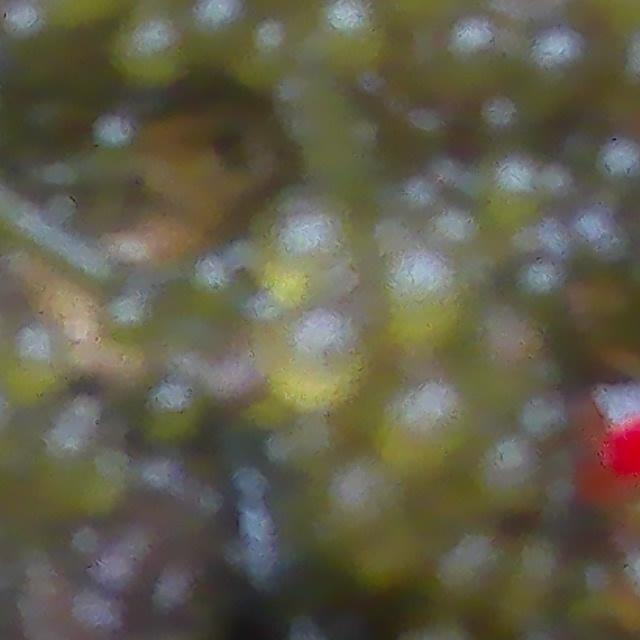SeaGrape: (390, 375, 467, 473), (278, 313, 360, 404), (278, 202, 355, 295), (390, 254, 467, 340), (330, 463, 409, 535), (320, 0, 385, 80), (223, 18, 292, 90), (523, 28, 581, 104), (118, 17, 185, 82), (453, 16, 499, 86)
